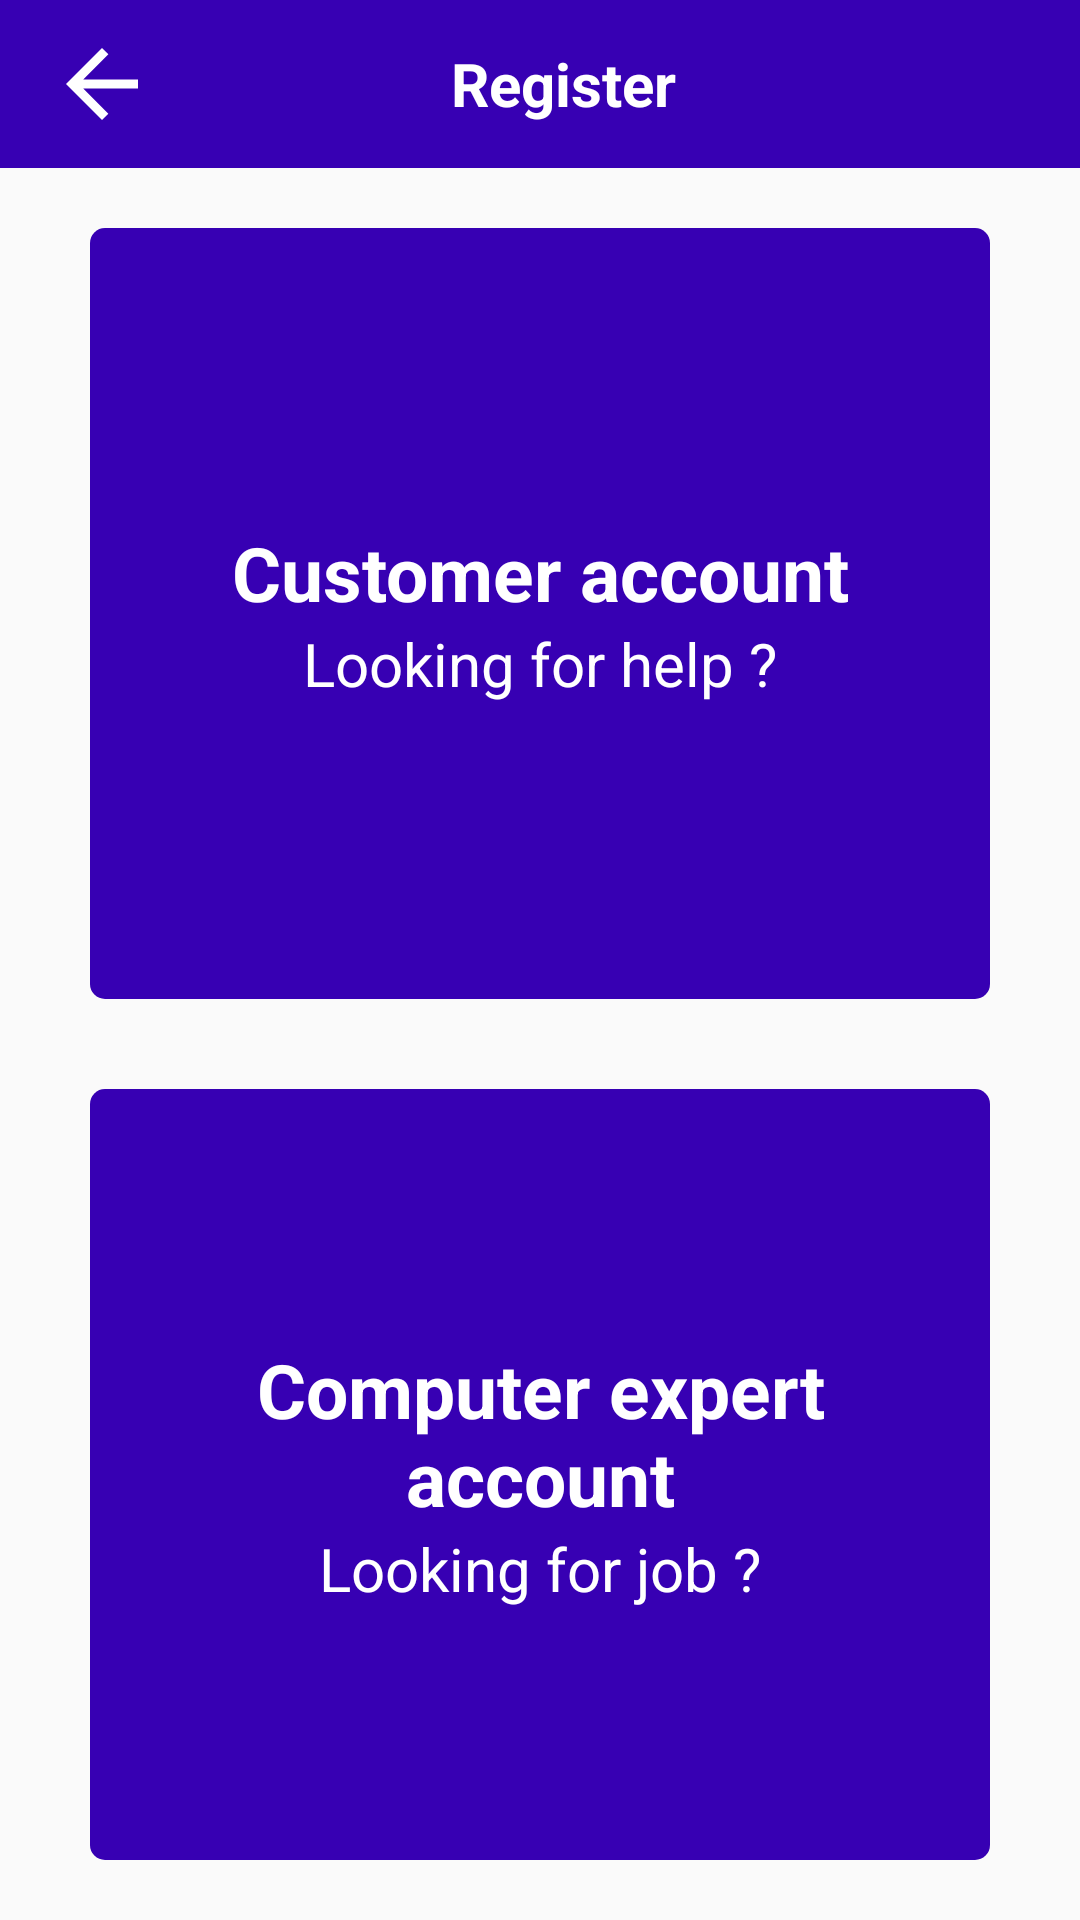

Screen size 1080×1920. Icon name, then its center in pixels as [x,y]:
back: [102,84]
